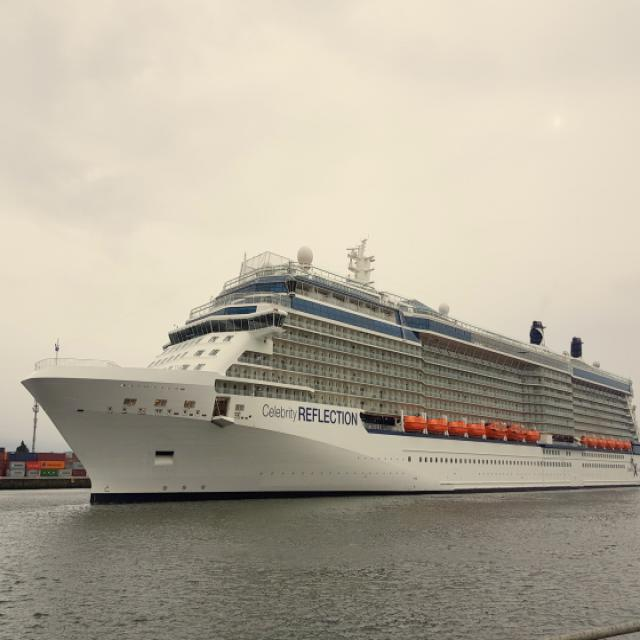cruises: (17, 225, 640, 511)
